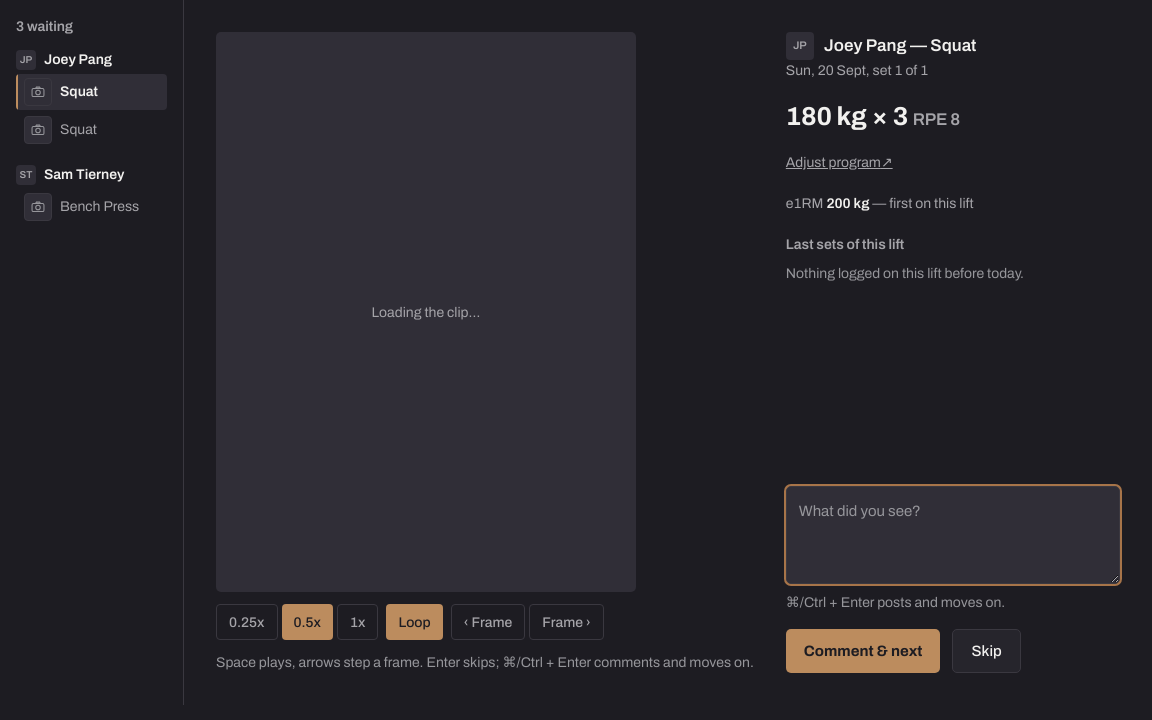
Test: treats a refused comment as a possible unlink and re-reads
Type "Brace harder" into the text box at (953,535), box [786,486,1120,584]
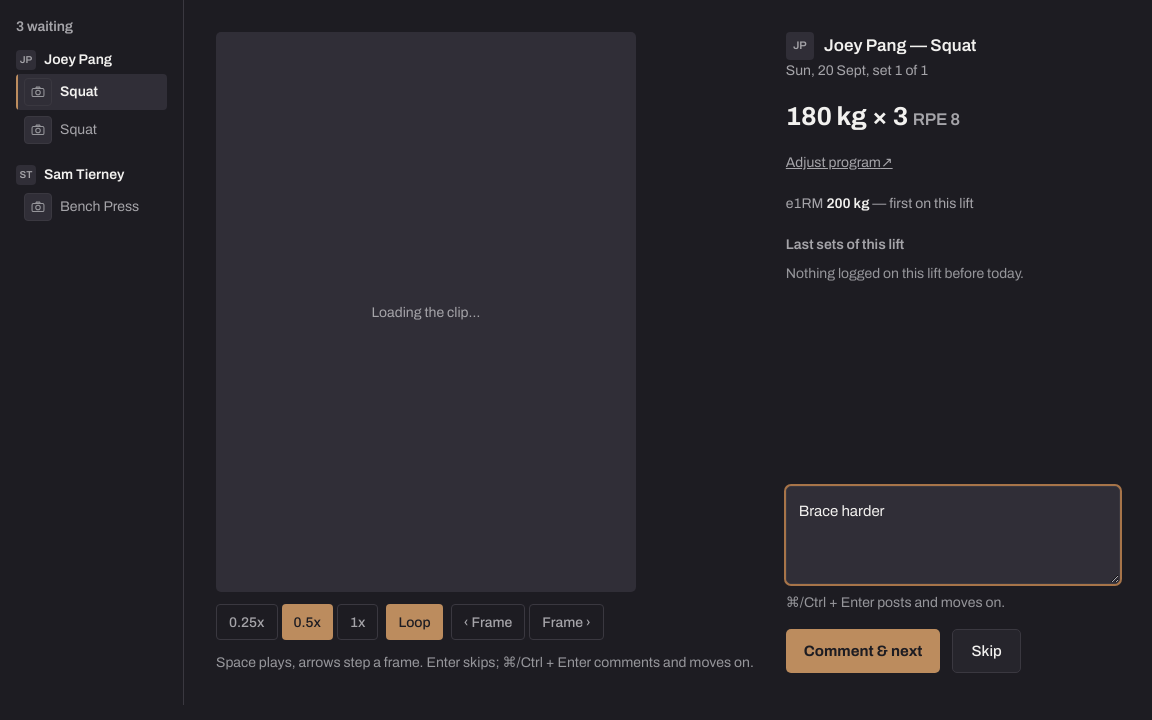
Type keys "{Control>}{Enter}{/Control}"
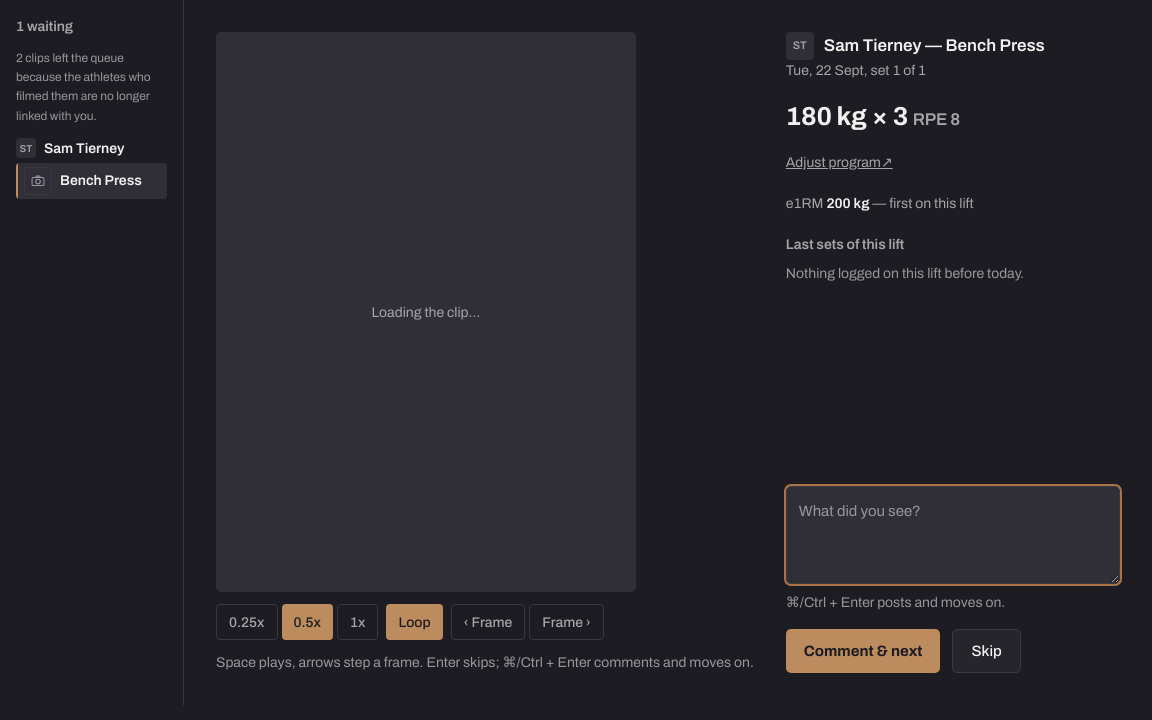
Check: the text "1 waiting" is shown, box [16,19,73,34]
Check: the message shows "left the queue", box [16,51,151,123]
